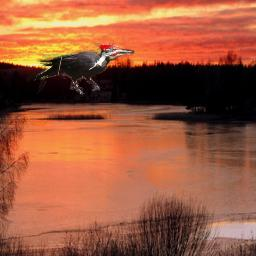Woodpecker: (26, 43, 135, 96)
